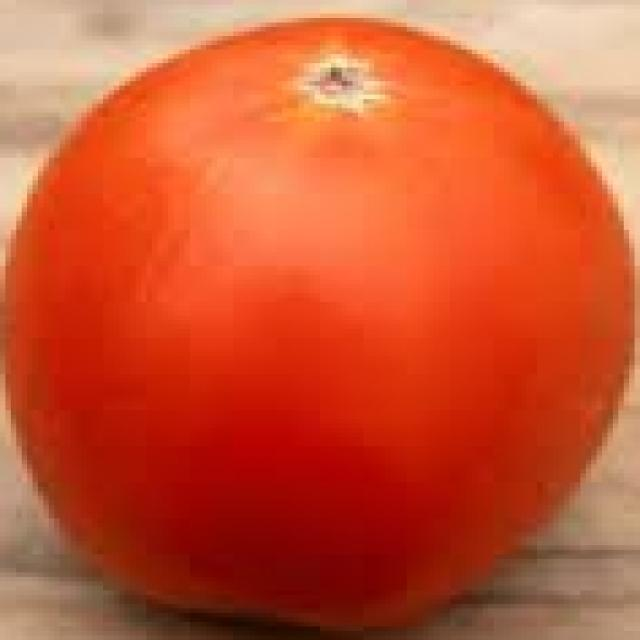Healthy: (31, 5, 640, 640)
